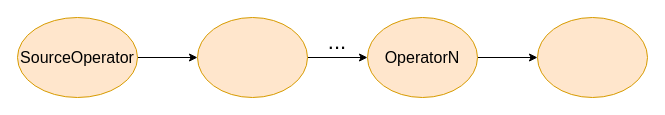
Image size: 665x115. Some labels were removed from this diagram. Each missing label, with the centre of its shape:
"Operator1" belongs at point (252, 57).
"SinkOperator" belongs at point (592, 57).
